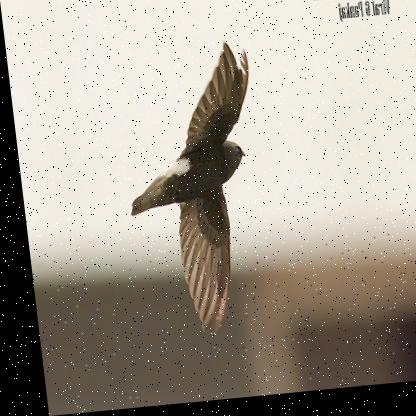Burung: (111, 43, 271, 344)
